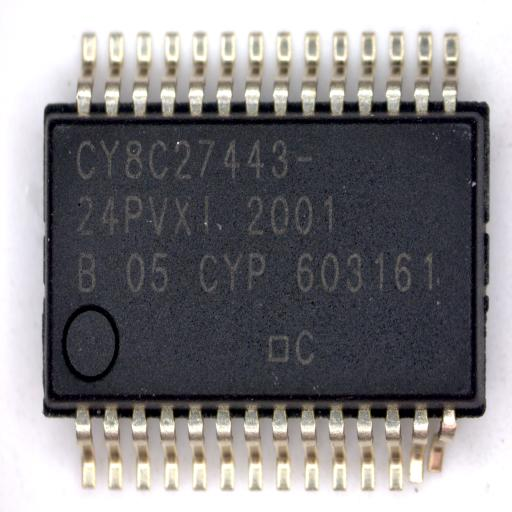defective_pin: (428, 403, 462, 476)
pins: (72, 29, 98, 120), (100, 28, 126, 119), (129, 29, 155, 120), (184, 27, 210, 118), (213, 30, 239, 121), (354, 29, 380, 120), (326, 29, 352, 120), (410, 28, 436, 119), (382, 29, 408, 120), (298, 29, 324, 120), (72, 403, 98, 494), (100, 402, 126, 493), (128, 403, 154, 494), (186, 403, 212, 494), (212, 404, 238, 495), (241, 404, 267, 495), (298, 404, 324, 495), (326, 403, 352, 494), (354, 403, 380, 494), (382, 403, 408, 494), (410, 403, 436, 494), (158, 29, 184, 119), (270, 31, 296, 121), (240, 29, 266, 119), (437, 29, 463, 119), (157, 403, 183, 493), (270, 405, 296, 495)
